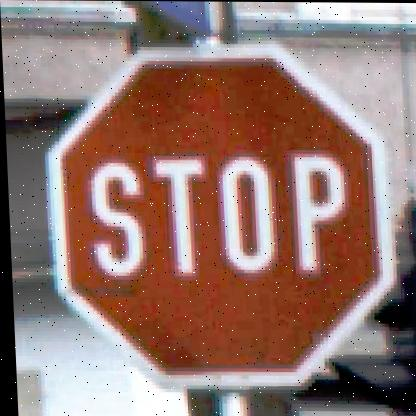Stop Sign: (33, 32, 400, 394)
